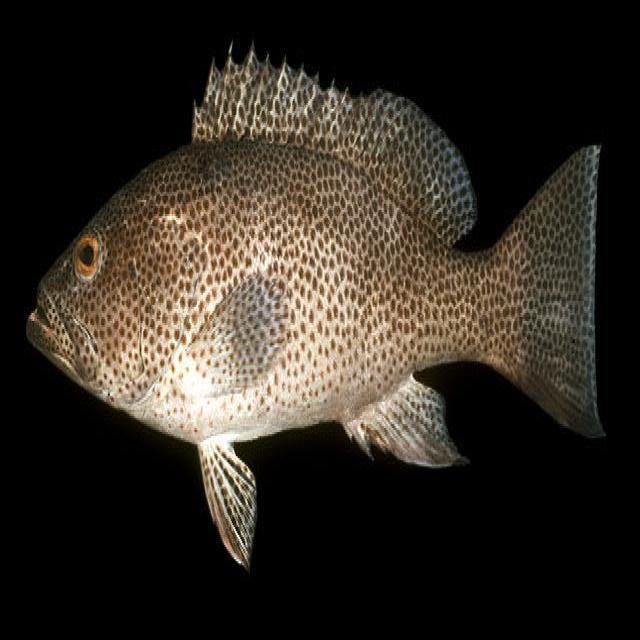ikan: (25, 36, 606, 572)
